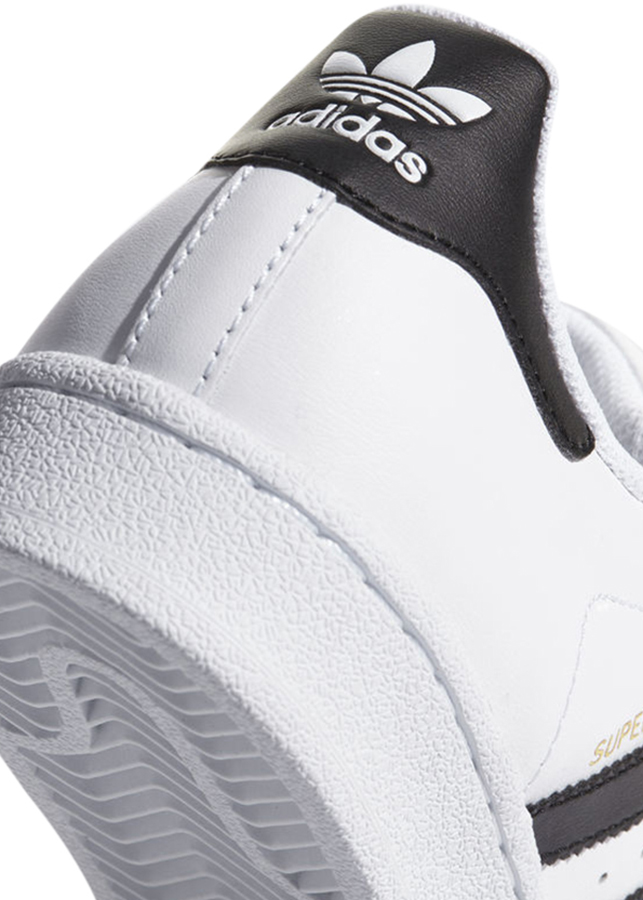Adidas: (260, 25, 497, 188)
